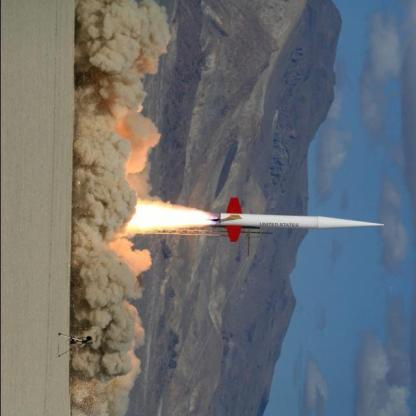MIL_TBM: (197, 208, 384, 232)
